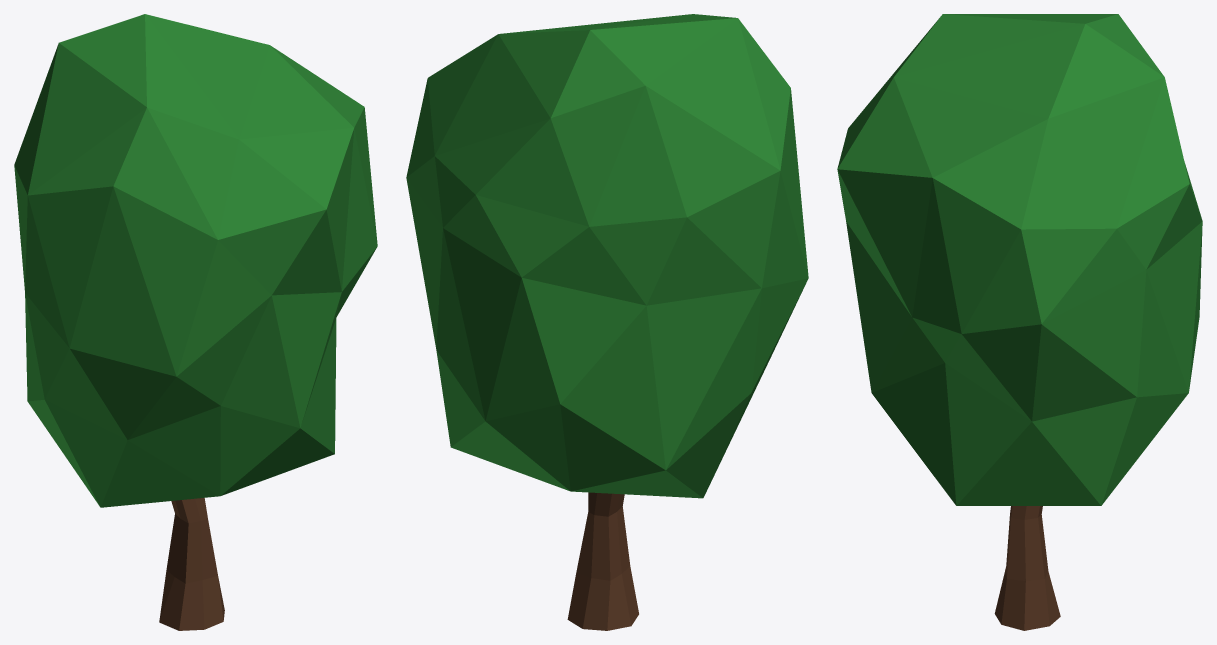
The model's file is Tree_43_Green.fbx.
3 views of the same model, side by side, from view 1: azimuth 30°, elevation 25°; view 2: azimuth 150°, elevation 25°; view 3: azimuth 270°, elevation 25° (orthographic). The views are drawn at different scales.
Parts seen in each view (by area): view 1: Tree_43_Green_Part_1, Tree_43_Green_Part_2; view 2: Tree_43_Green_Part_1, Tree_43_Green_Part_2; view 3: Tree_43_Green_Part_1, Tree_43_Green_Part_2.
Boxes of the visible parts, <box> form: Tree_43_Green_Part_1: <box>14,14,377,507</box>; Tree_43_Green_Part_2: <box>159,498,224,630</box>; Tree_43_Green_Part_1: <box>406,14,808,498</box>; Tree_43_Green_Part_2: <box>567,492,638,630</box>; Tree_43_Green_Part_1: <box>837,14,1202,505</box>; Tree_43_Green_Part_2: <box>994,506,1060,630</box>.
Bounding box in the file's own units: 500 × 807 × 458.
